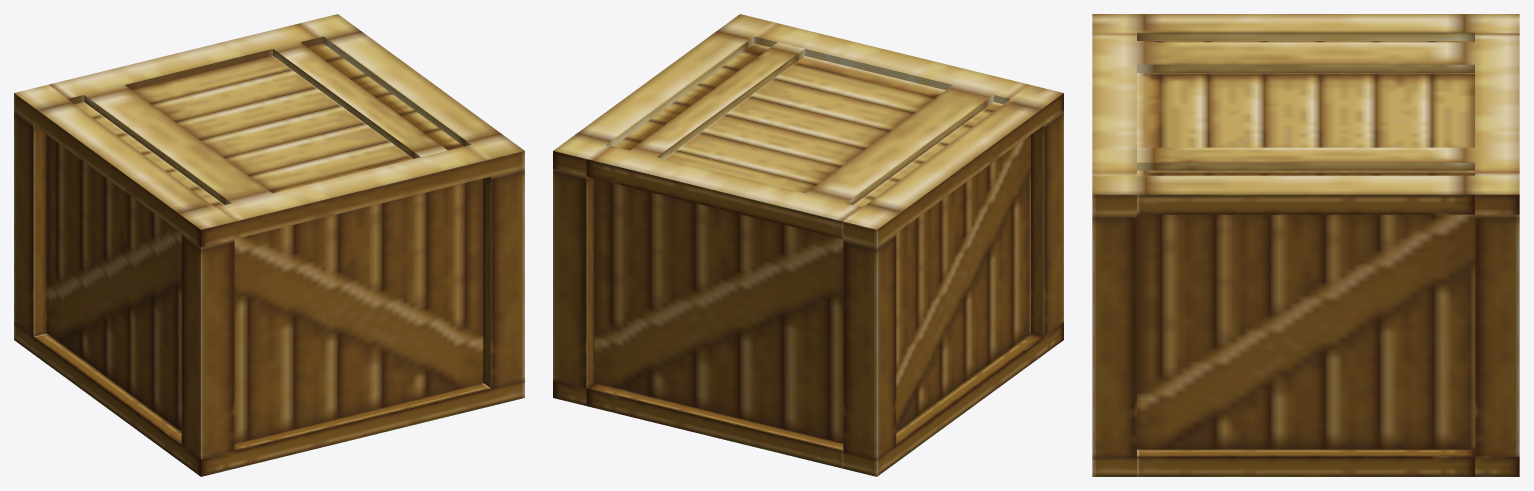
The model's file is Poly_Crate_Big_01.obj.
The picture shows the model from 3 angles, left to right: view 1: azimuth 30°, elevation 25°; view 2: azimuth 150°, elevation 25°; view 3: azimuth 270°, elevation 25°; orthographic projection. The views are drawn at different scales.
Visible parts, largest first — view 1: Cube; view 2: Cube; view 3: Cube.
Part boxes in pixels (x1,y1,x2,y2): Cube: (14,14,524,476); Cube: (553,14,1063,476); Cube: (1092,14,1519,476).
Size of the model in its own units: 0.96 by 0.7 by 0.96.
1 material, 1 textured.
